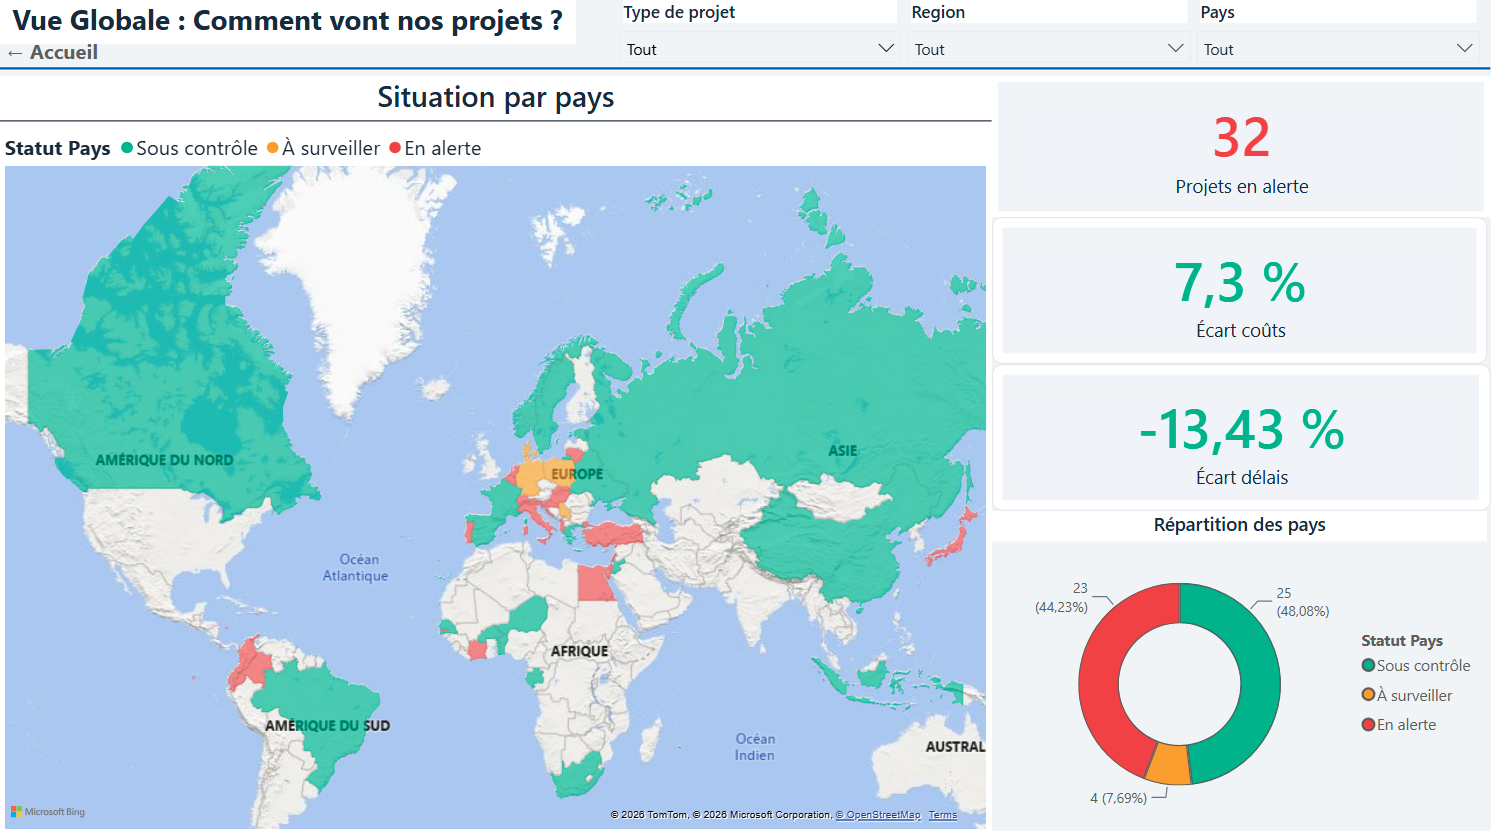

What the dashboard file says about the page in this screenshot:
{"tool":"powerbi","page":{"name":"Vue Globale","canvas":[1280,720],"ordinal":1},"visuals":[{"type":"textbox","box":[0,0,495,42.5],"z":0},{"type":"slicer","fields":{"Values":["Project type.Type_Simple"]},"box":[522.5,0,261.2,70],"z":1000},{"type":"slicer","fields":{"Values":["Country_Profiles.Region"]},"box":[770,0,262.5,70],"z":2000},{"type":"slicer","fields":{"Values":["Projects_Locations.Country"]},"box":[1017.5,0,262.5,70],"z":3000},{"type":"cardVisual","fields":{"Data":["Mesures.Nb Projets En Alerte"]},"box":[852.5,70,427.5,121.2],"z":4000},{"type":"cardVisual","fields":{"Data":["Mesures.Écart Coûts %"]},"box":[852.5,191.2,425,126.2],"z":5000},{"type":"cardVisual","fields":{"Data":["Mesures.Écart Durées %"]},"box":[852.5,317.5,427.5,126.2],"z":6000},{"type":"filledMap","title":"Situation par pays","fields":{"Category":["Projects_Locations.Country"],"Series":["Country_Profiles.Classification Alerte Pays"]},"box":[0,70,852.5,650.2],"z":7000},{"type":"actionButton","title":"Accueil","box":[0,26.7,91.6,43.3],"z":8000},{"type":"donutChart","title":"Répartition des pays","fields":{"Category":["Country_Profiles.Statut Pays"],"Y":["CountNonNull(Country_Profiles.Country)"]},"box":[852.5,443.8,425,276.2],"z":9000},{"type":"shape","box":[0,57.3,1280,12.7],"z":10000}]}

Visuals, with their boxes in screenshot pixels (x1, y1, x2, y2), scaled from the page's 1280x720 canvas onto the 1491x831 screenshot:
textbox: [0, 0, 577, 49]
slicer - Project type.Type_Simple: [609, 0, 913, 81]
slicer - Country_Profiles.Region: [897, 0, 1203, 81]
slicer - Projects_Locations.Country: [1185, 0, 1490, 81]
cardVisual - Mesures.Nb Projets En Alerte: [993, 81, 1490, 221]
cardVisual - Mesures.Écart Coûts %: [993, 221, 1488, 366]
cardVisual - Mesures.Écart Durées %: [993, 366, 1490, 512]
"Situation par pays" filledMap: [0, 81, 993, 830]
"Accueil" actionButton: [0, 31, 107, 81]
"Répartition des pays" donutChart: [993, 512, 1488, 830]
shape: [0, 66, 1490, 81]
